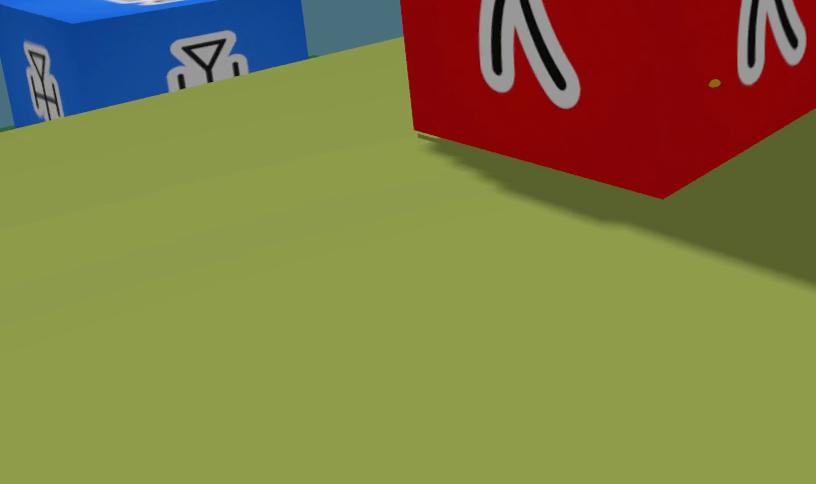KFS_FAKE: (399, 0, 816, 196), (479, 0, 580, 106), (737, 0, 808, 84)
KFS_REAL: (0, 0, 308, 126), (167, 31, 249, 91), (24, 43, 62, 120), (107, 0, 183, 5)
